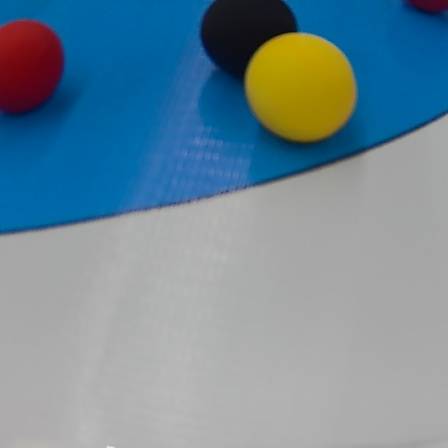black: (198, 2, 298, 83)
blue_base: (3, 2, 448, 239)
red: (2, 20, 63, 116)
yellow: (242, 32, 355, 149)
